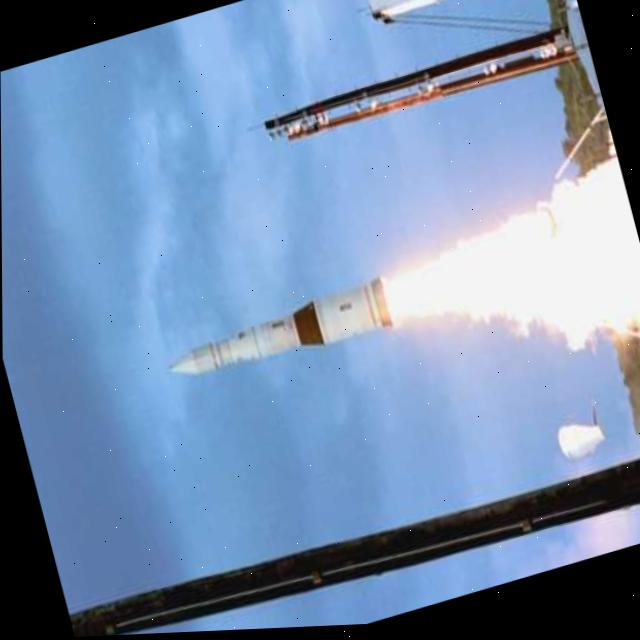missile: (155, 266, 398, 398)
